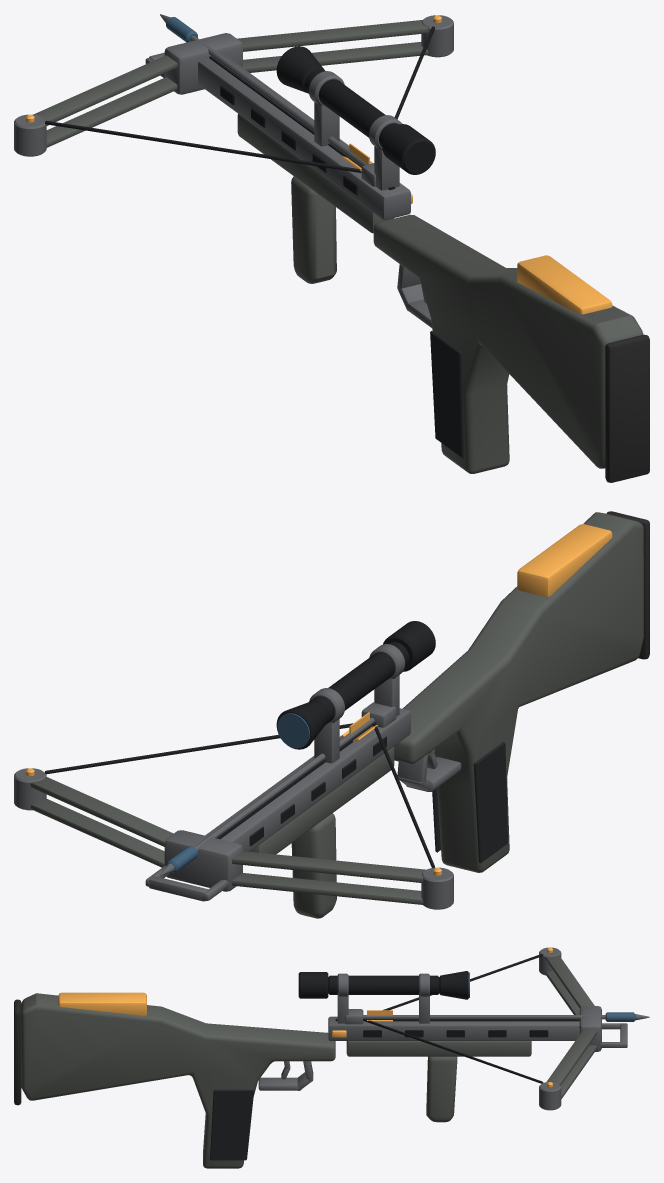
Rendered from Crossbow.fbx.
The picture shows the model from 3 angles, top to bottom: view 1: azimuth 30°, elevation 25°; view 2: azimuth 150°, elevation 25°; view 3: azimuth 270°, elevation 25°; orthographic projection. The views are drawn at different scales.
Visible parts, largest first — view 1: Stock, Flight Rail, Butt Pad, Forward Grip, Grip Texture Panel -1, Rail Underside, Cheek Rest, Limb Upper 1, Limb Upper -1, Riser, Limb Lower -1, Scope Tube (+9 smaller); view 2: Stock, Flight Rail, Cheek Rest, Grip Texture Panel -1, Riser, Rail Underside, Limb Upper -1, Limb Lower -1, Forward Grip, Limb Upper 1, Limb Lower 1, Scope Tube (+15 smaller); view 3: Stock, Flight Rail, Rail Underside, Grip Texture Panel 1, Forward Grip, Scope Tube, Cheek Rest, Bolt Shaft, Limb Upper 1, Limb Upper -1, Butt Pad, Scope Eyepiece (+10 smaller).
Part boxes in pixels (x1,y1,x2,y2): Stock: [373, 214, 643, 473]; Flight Rail: [198, 54, 410, 219]; Butt Pad: [605, 334, 649, 482]; Forward Grip: [291, 176, 336, 283]; Grip Texture Panel -1: [430, 331, 464, 458]; Rail Underside: [237, 113, 394, 233]; Cheek Rest: [517, 255, 612, 314]; Limb Upper 1: [237, 20, 428, 51]; Limb Upper -1: [33, 55, 177, 125]; Riser: [164, 33, 242, 94]; Limb Lower -1: [46, 77, 177, 147]; Scope Tube: [304, 69, 398, 146]; Stock: [394, 512, 643, 872]; Flight Rail: [205, 708, 410, 851]; Cheek Rest: [517, 524, 612, 596]; Grip Texture Panel -1: [473, 741, 507, 862]; Riser: [164, 830, 242, 891]; Rail Underside: [250, 746, 394, 854]; Limb Upper -1: [232, 851, 425, 882]; Limb Lower -1: [232, 873, 423, 904]; Forward Grip: [291, 813, 336, 918]; Limb Upper 1: [30, 776, 173, 846]; Limb Lower 1: [30, 798, 164, 867]; Scope Tube: [309, 642, 409, 724]; Stock: [21, 993, 335, 1168]; Flight Rail: [328, 1016, 579, 1040]; Rail Underside: [346, 1041, 531, 1056]; Grip Texture Panel 1: [210, 1089, 254, 1160]; Forward Grip: [426, 1056, 457, 1122]; Scope Tube: [328, 975, 439, 994]; Cheek Rest: [58, 992, 146, 1015]; Bolt Shaft: [363, 1015, 605, 1019]; Limb Upper 1: [546, 1030, 597, 1085]; Limb Upper -1: [545, 955, 594, 1008]; Butt Pad: [14, 999, 21, 1105]; Scope Eyepiece: [298, 972, 328, 998].
Size of the model in its own units: 0.92 by 0.5693 by 1.72.
